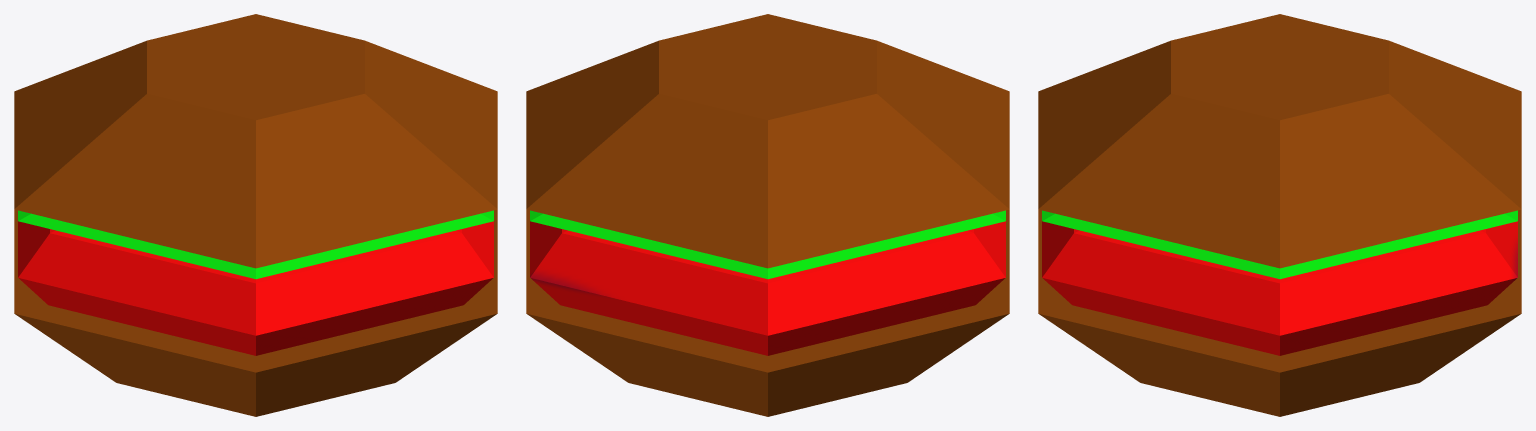
Rendered from burger.FBX.
The picture shows the model from 3 angles, left to right: view 1: azimuth 30°, elevation 25°; view 2: azimuth 150°, elevation 25°; view 3: azimuth 270°, elevation 25°; orthographic projection.
Parts seen in each view (by area): view 1: burger; view 2: burger; view 3: burger.
Boxes of the visible parts, left/top/right/bottom form: burger: left=14, top=14, right=497, bottom=416; burger: left=526, top=14, right=1009, bottom=416; burger: left=1038, top=14, right=1521, bottom=416.
Bounding box in the file's own units: 41.55 × 25.27 × 35.99.
